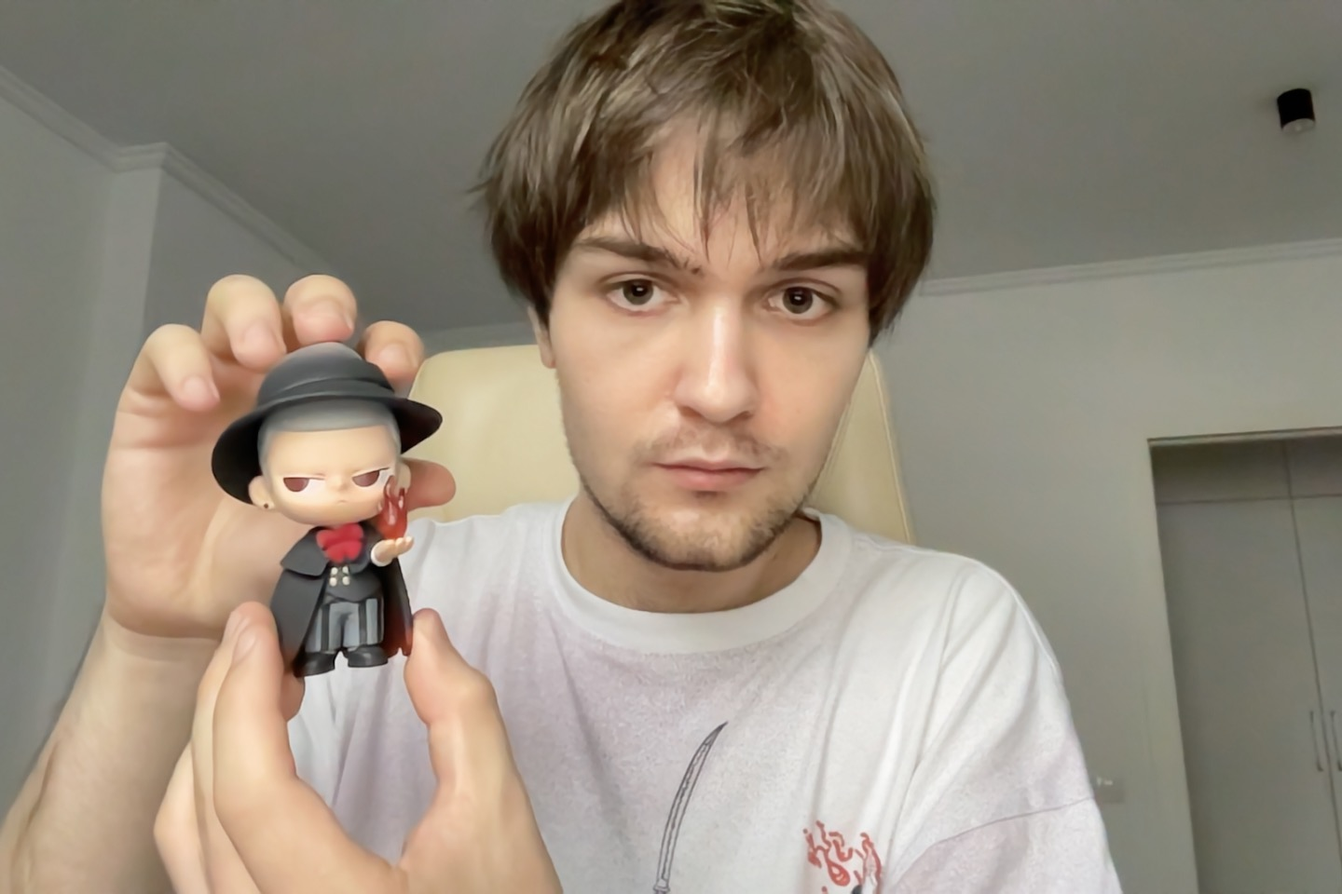magician: (202, 337, 455, 682)
